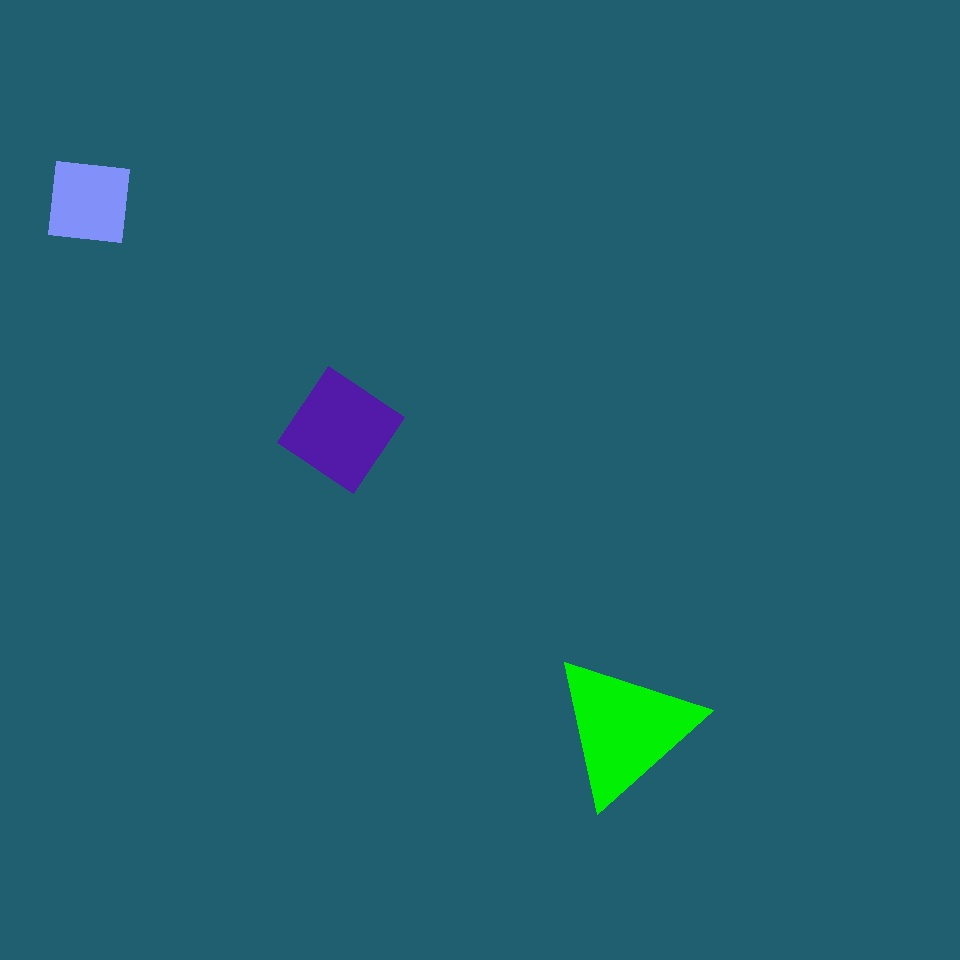circle: (134, 224, 319, 429), (550, 653, 700, 805)
square: (235, 314, 468, 546), (278, 366, 404, 494), (48, 162, 130, 243)
triangle: (126, 76, 443, 393), (293, 496, 575, 779), (330, 459, 518, 647), (160, 427, 339, 606)
